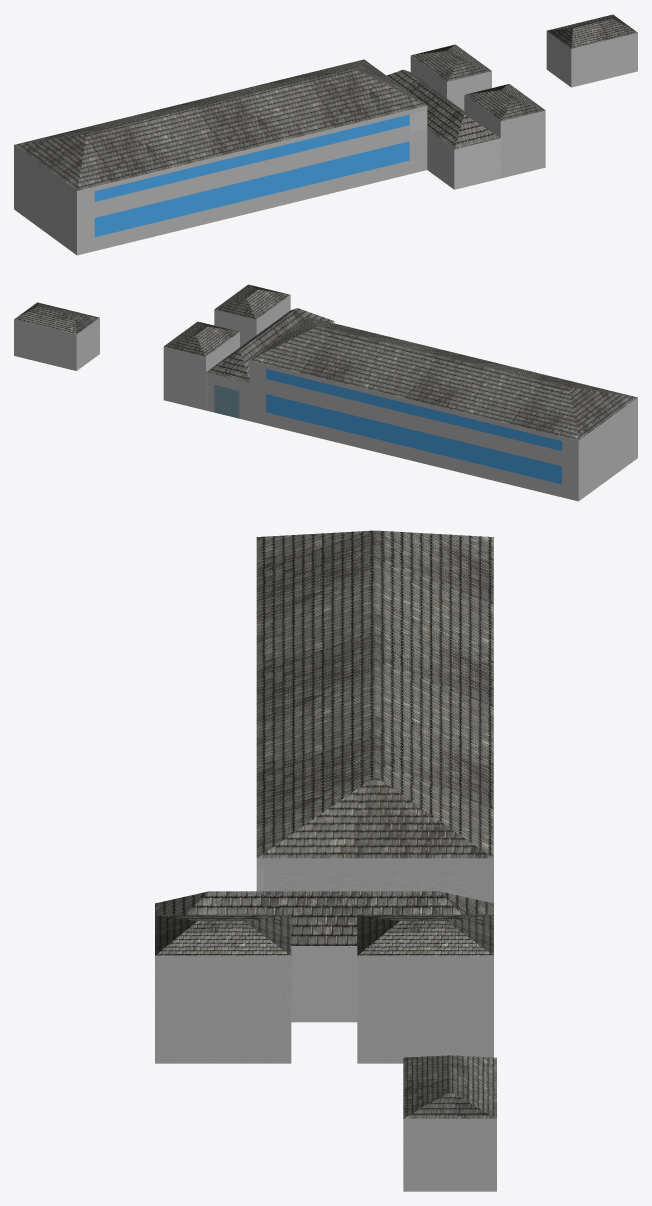
File: Raw_Water_Pump_House.glb
The picture shows the model from 3 angles, top to bottom: view 1: azimuth 30°, elevation 25°; view 2: azimuth 150°, elevation 25°; view 3: azimuth 270°, elevation 25°; orthographic projection. The views are drawn at different scales.
Visible parts, largest first — view 1: Floor1; view 2: Floor1; view 3: Floor1.
Boxes of the visible parts, box(x1,y1,x2,y2) form: Floor1: box(14, 14, 637, 255); Floor1: box(14, 284, 637, 501); Floor1: box(155, 530, 496, 1191).
Size of the model in its own units: 68.11 by 10.36 by 17.9.
5 materials, 5 textured.
